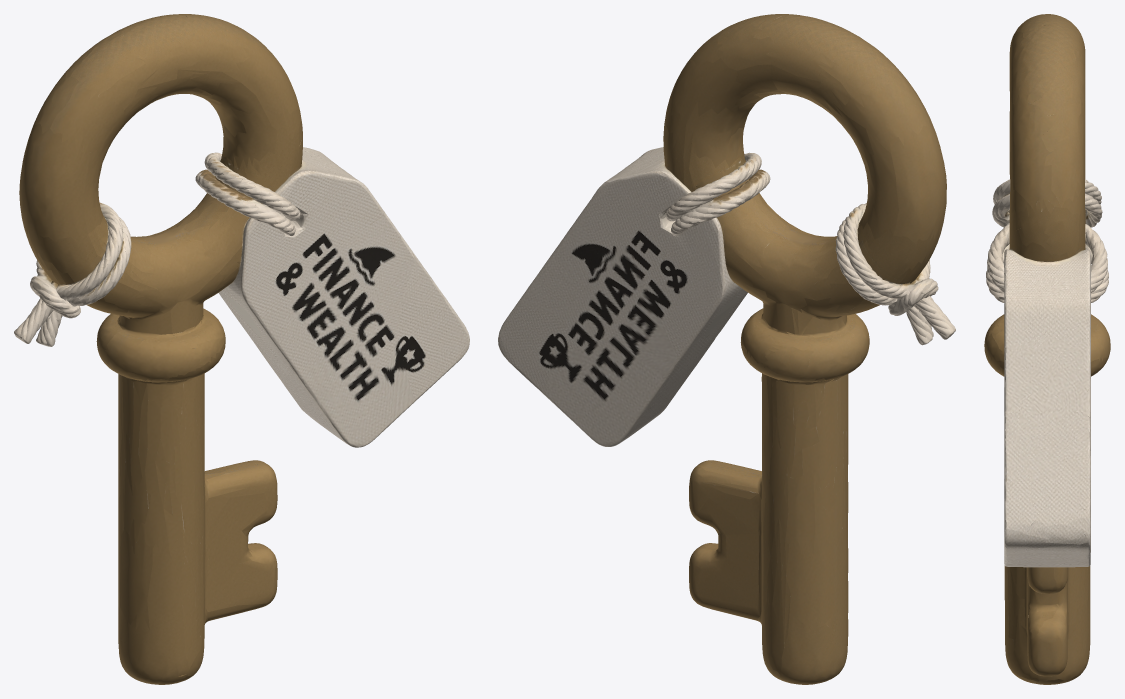
Rendered from key-t1.original.glb.
3 renders of one model, left to right at view 1: azimuth 30°, elevation 25°; view 2: azimuth 150°, elevation 25°; view 3: azimuth 270°, elevation 25°, orthographic.
Parts seen in each view (by area): view 1: mesh_node; view 2: mesh_node; view 3: mesh_node.
Part boxes in pixels (x1,y1,x2,y2): mesh_node: [14, 14, 469, 684]; mesh_node: [498, 14, 955, 684]; mesh_node: [984, 14, 1110, 684].
Size of the model in its own units: 1.32 by 1.9 by 0.3364.
Materials: 1 (1 with a texture image).
